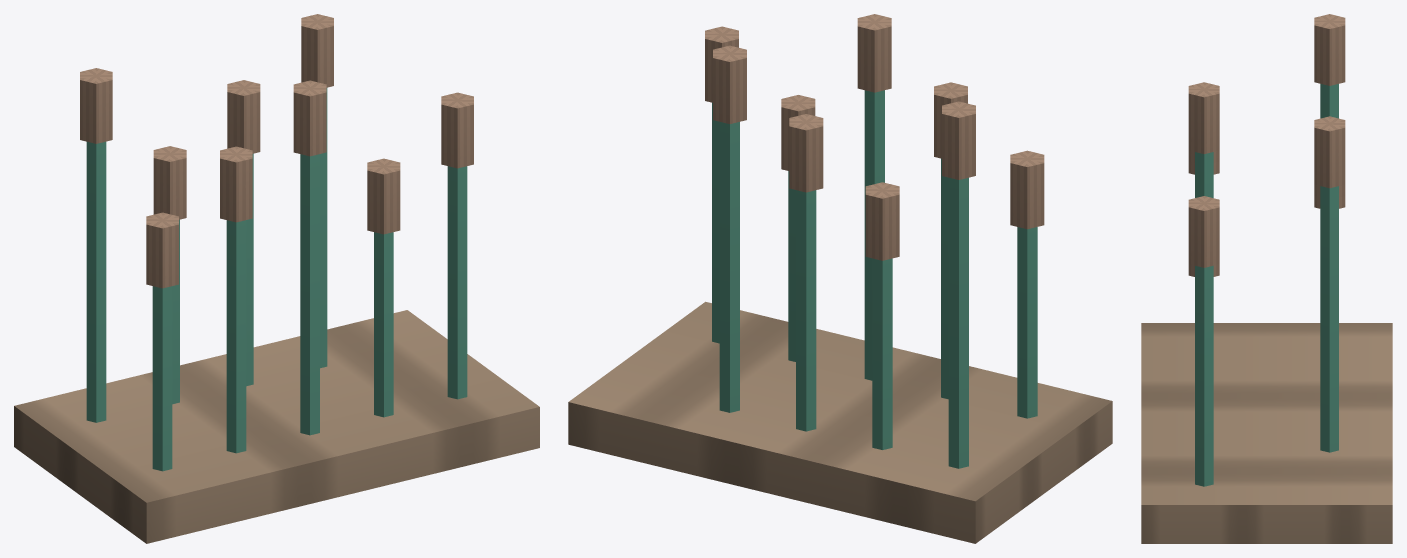
Rendered from river_reeds.glb.
3 views of the same model, side by side, from view 1: azimuth 30°, elevation 25°; view 2: azimuth 150°, elevation 25°; view 3: azimuth 270°, elevation 25° (orthographic). The views are drawn at different scales.
Visible parts, largest first — view 1: river_reeds; view 2: river_reeds; view 3: river_reeds.
Boxes of the visible parts, x1,y1,x2,y2 form: river_reeds: (14, 14, 539, 543); river_reeds: (568, 14, 1112, 543); river_reeds: (1141, 14, 1392, 543).
Bounding box in the file's own units: 2.4 × 2.23 × 1.4.
Materials: 1 (1 with a texture image).
